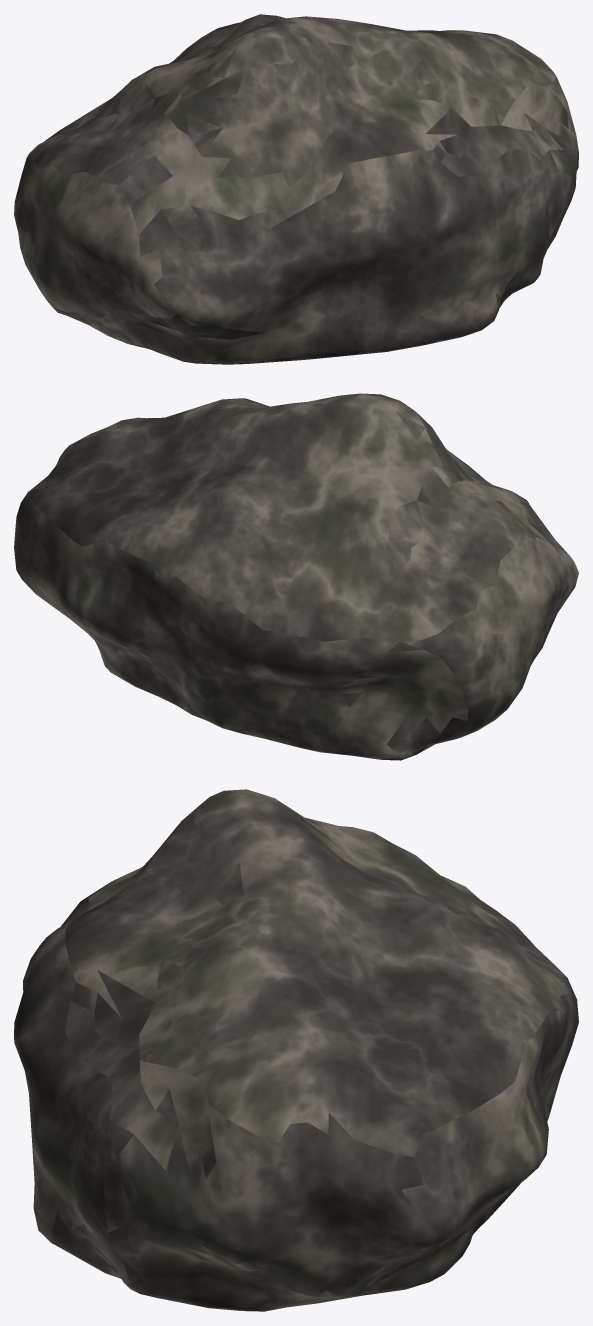
Rendered from rock_large_01.glb.
3 views of the same model, one above another, from view 1: azimuth 30°, elevation 25°; view 2: azimuth 150°, elevation 25°; view 3: azimuth 270°, elevation 25° (orthographic). The views are drawn at different scales.
Parts seen in each view (by area): view 1: rock_large_01; view 2: rock_large_01; view 3: rock_large_01.
Boxes of the visible parts, x1,y1,x2,y2 form: rock_large_01: [14, 14, 578, 364]; rock_large_01: [14, 393, 578, 760]; rock_large_01: [14, 789, 578, 1311].
Bounding box in the file's own units: 3.08 × 1.69 × 2.34.
1 material, 1 textured.
